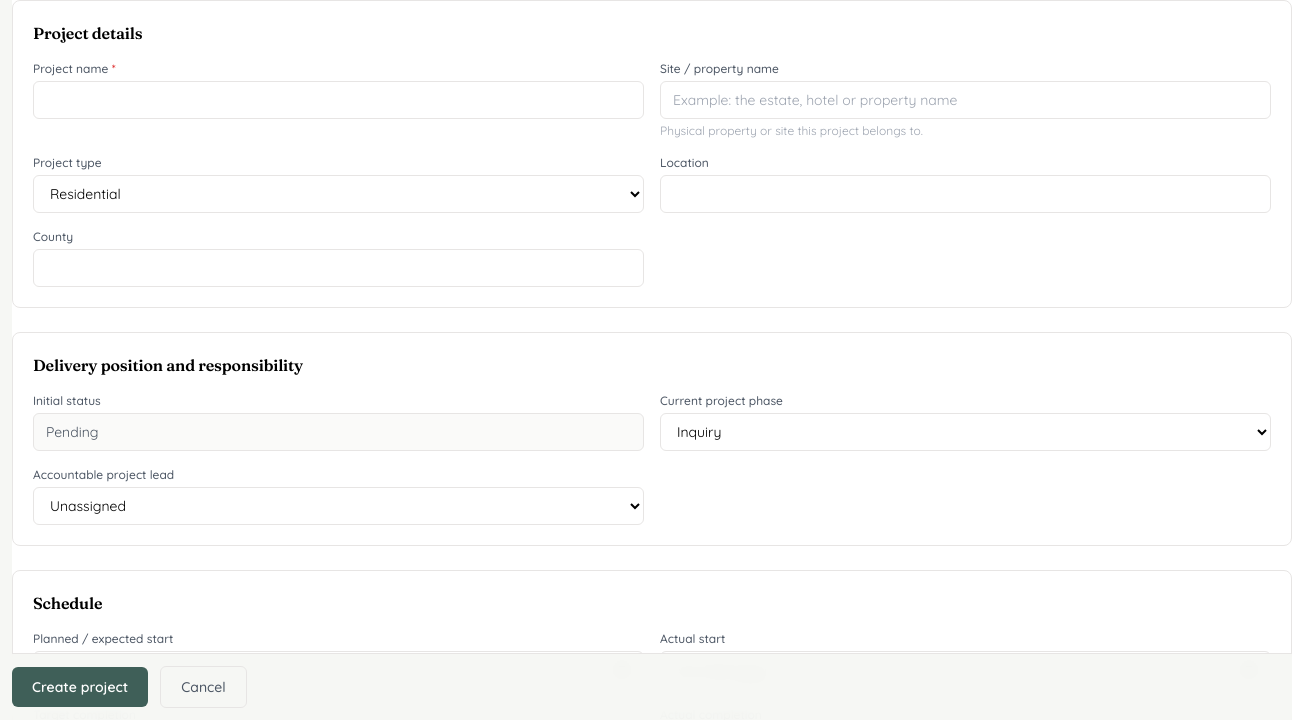
Test case: save feedback › preserves form values and shows an error when the save fails
The width and height of the screenshot is (1292, 720).
Type "Kept Value" into the field labelled "Project name *" at (338, 100), box [33,81,644,119]
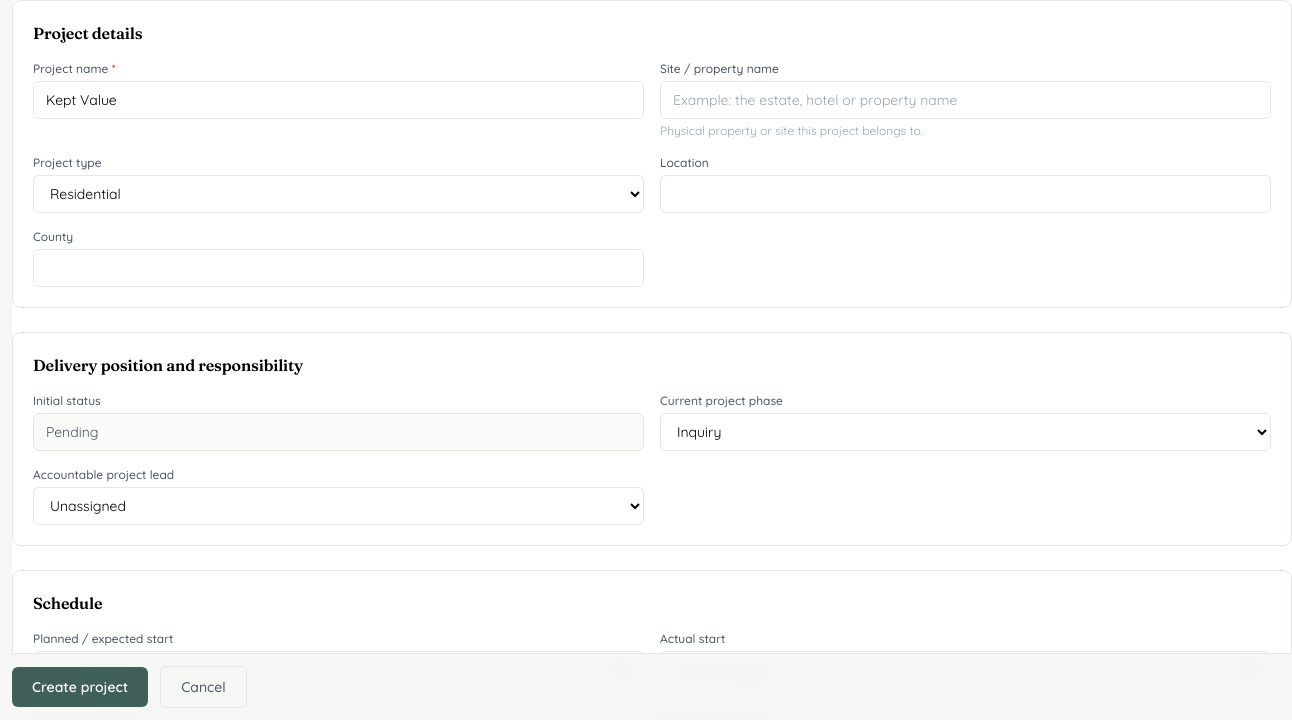
Click the button "Create project" at (80, 687), box [12,667,148,707]
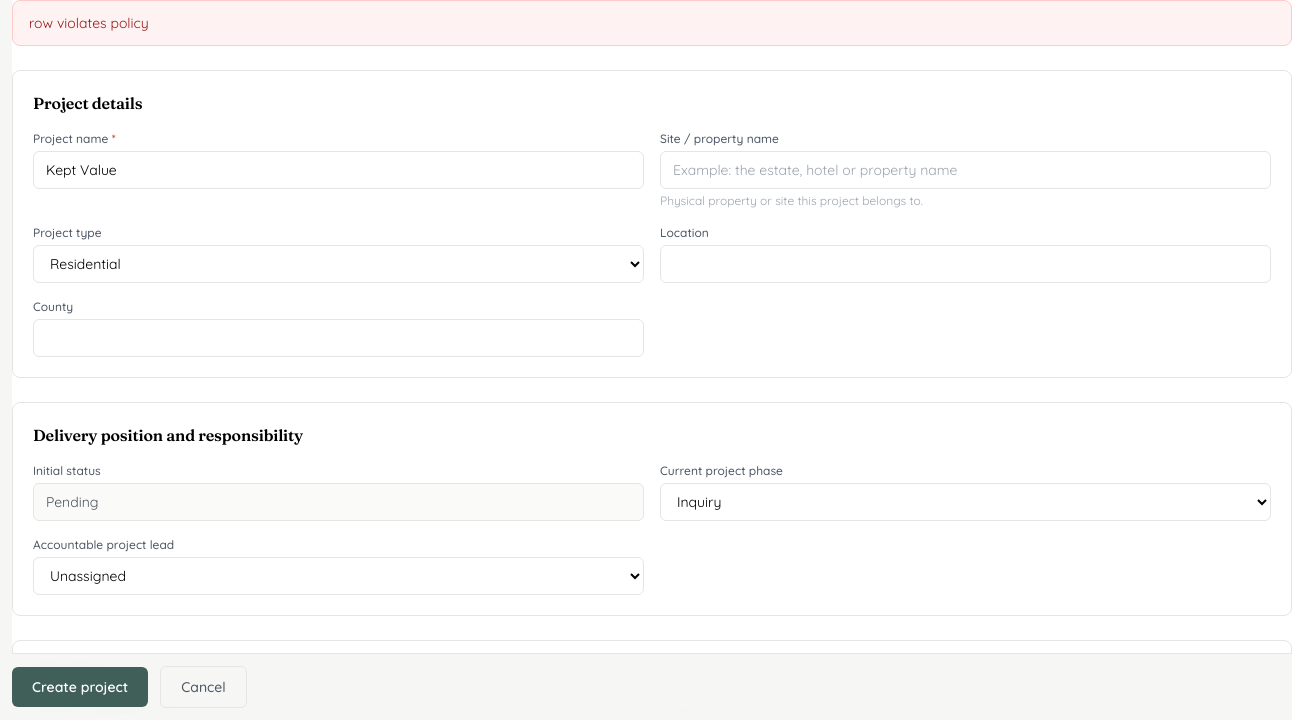
Result: the text "row violates policy" is shown at [12,0,1291,46]
